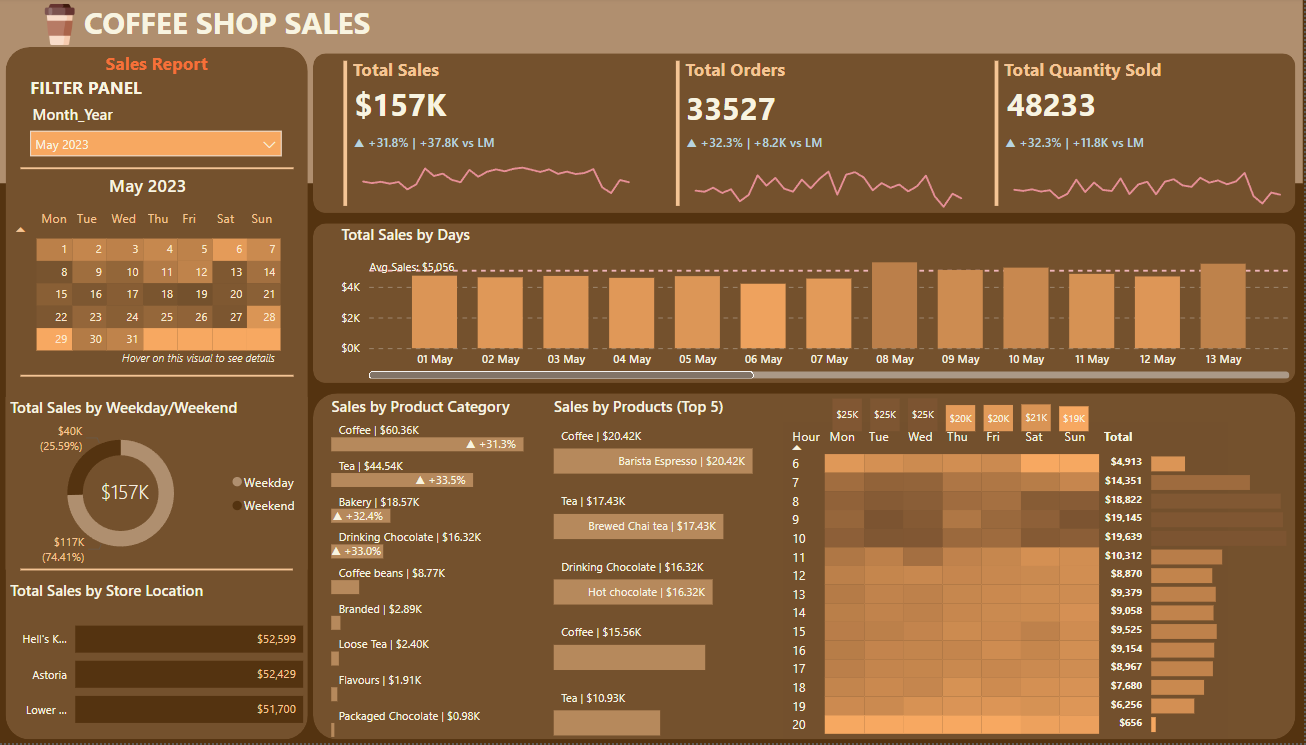

What the dashboard file says about the page in this screenshot:
{"tool":"powerbi","page":{"name":"Dashboard","canvas":[1400,800],"ordinal":0},"visuals":[{"type":"shape","box":[0,0,1399.5,199.7],"z":0},{"type":"card","fields":{"Values":["Transactions.Total Sales"]},"box":[375.6,72.4,112.6,85.8],"z":0,"group":"g1"},{"type":"card","fields":{"Values":["Transactions.Total Quantity Sold"]},"box":[1074,72.4,112.6,85.8],"z":0,"group":"g4"},{"type":"card","fields":{"Values":["Transactions.Total Orders"]},"box":[731.2,80.3,108.6,77.7],"z":0,"group":"g2"},{"type":"pivotTable","fields":{"Rows":["Calendar.Week_no"],"Columns":["Calendar.Day Name"],"Values":["Sum(Calendar.Day_no)"]},"box":[9.8,219.4,305.6,166.2],"z":0,"group":"g3"},{"type":"shape","box":[8,53.6,324.4,742.6],"z":1000},{"type":"lineChart","fields":{"Category":["Calendar.Date.Variation.Date Hierarchy.Year","Calendar.Date.Variation.Date Hierarchy.Quarter","Calendar.Date.Variation.Date Hierarchy.Month","Calendar.Date.Variation.Date Hierarchy.Day"],"Y":["Transactions.Total Sales"]},"box":[376.9,146.1,315,85.8],"z":1000,"group":"g1"},{"type":"lineChart","fields":{"Category":["Calendar.Date.Variation.Date Hierarchy.Year","Calendar.Date.Variation.Date Hierarchy.Quarter","Calendar.Date.Variation.Date Hierarchy.Month","Calendar.Date.Variation.Date Hierarchy.Day"],"Y":["Transactions.Total Orders"]},"box":[733.4,146.1,315,85.8],"z":1000,"group":"g2"},{"type":"lineChart","fields":{"Category":["Calendar.Date.Variation.Date Hierarchy.Year","Calendar.Date.Variation.Date Hierarchy.Quarter","Calendar.Date.Variation.Date Hierarchy.Month","Calendar.Date.Variation.Date Hierarchy.Day"],"Y":["Transactions.Total Quantity Sold"]},"box":[1075.3,146.1,315,85.8],"z":1000,"group":"g4"},{"type":"card","fields":{"Values":["Min(Calendar.Month_Year)"]},"box":[4.7,185,313.6,37.2],"z":1000,"group":"g3"},{"type":"textbox","box":[375.6,60.3,281.5,42.9],"z":2000,"group":"g1"},{"type":"textbox","box":[732.1,60.3,281.5,42.9],"z":2000,"group":"g2"},{"type":"textbox","box":[1074,60.3,281.5,42.9],"z":2000,"group":"g4"},{"type":"card","fields":{"Values":["Transactions.Foot Note"]},"box":[125,373.6,181,24.1],"z":2000,"group":"g3"},{"type":"donutChart","fields":{"Y":["Transactions.Total Sales"],"Category":["Calendar.Weekday/Weekend"]},"box":[8,429,324.4,185],"z":2000},{"type":"shape","box":[337.8,60.3,1053.6,171.6],"z":3000},{"type":"shape","box":[350.9,68.1,42.4,155.7],"z":3000,"group":"g1"},{"type":"shape","box":[707.4,68.1,42.4,155.7],"z":3000,"group":"g2"},{"type":"shape","box":[1049.3,68.1,42.4,155.7],"z":3000,"group":"g4"},{"type":"shape","box":[25.5,162.2,292.9,42.9],"z":3000,"group":"g5"},{"type":"shape","box":[337.8,242.6,1053.6,171.6],"z":4000},{"type":"shape","box":[337.8,424.9,1053.6,371.3],"z":5000},{"type":"card","fields":{"Values":["Transactions.Total Sales"]},"box":[95.2,497.3,81.8,68.4],"z":6000},{"type":"textbox","box":[87.7,0,401.3,56.5],"z":7000},{"type":"slicer","fields":{"Values":["Calendar.Month_Year"]},"box":[23.8,110,289.8,69.9],"z":8000},{"type":"group","id":"g1","title":"Group 1","box":[350.9,60.3,340.9,171.4],"z":9000},{"type":"group","id":"g2","title":"Group 1","box":[707.4,60.3,341,171.6],"z":10000},{"type":"group","id":"g3","title":"Group 2","box":[4.7,185,313.6,212.7],"z":10000,"group":"g5"},{"type":"group","id":"g4","title":"Group 1","box":[1049.3,60.3,340.9,171.4],"z":11000},{"type":"shape","box":[25.5,385.1,292.9,42.9],"z":11001,"group":"g5"},{"type":"shape","box":[24.1,592.5,292.2,42.9],"z":12000},{"type":"group","id":"g5","title":"Group 3","box":[4.7,162.2,313.6,265.7],"z":13000},{"type":"clusteredBarChart","fields":{"Category":["Transactions.store_location"],"Y":["Transactions.Total Sales"]},"box":[8,624.4,324.4,175.6],"z":14000},{"type":"clusteredColumnChart","fields":{"Category":["Calendar.Day Month"],"Y":["Transactions.Total Sales"]},"box":[363.3,242.6,1026.8,171.6],"z":15000},{"type":"clusteredBarChart","title":"Sales by Product Category","fields":{"Y":["Transactions.Placeholder","Transactions.Total Sales"],"Category":["Transactions.product_category"]},"box":[352.2,428,248.2,371.5],"z":16000},{"type":"clusteredBarChart","title":"Sales by Products (Top 5)","fields":{"Y":["Transactions.Placeholder","Transactions.Total Sales"],"Category":["Transactions.product_type"]},"box":[591.5,428,248.2,371.5],"z":17000},{"type":"pivotTable","fields":{"Rows":["Transactions.Hour"],"Columns":["Calendar.Day Name"],"Values":["Transactions.Total Sales"]},"box":[841.2,456.3,477.1,340.3],"z":18000},{"type":"clusteredColumnChart","fields":{"Category":["Calendar.Day Name"],"Y":["Transactions.Total Sales"]},"box":[890.1,399.5,285.5,72.4],"z":19000},{"type":"clusteredBarChart","fields":{"Y":["Transactions.Total Sales"],"Category":["Transactions.Hour"]},"box":[1232.1,480,157.5,313.6],"z":20000},{"type":"textbox","box":[29.7,78.8,185.8,37.2],"z":21000},{"type":"textbox","box":[7.4,53.5,324,37.2],"z":22000},{"type":"image","box":[23.8,3,83.2,53.5],"z":23000}]}

Visuals, with their boxes in screenshot pixels (x1, y1, x2, y2), scaled from the page's 1400x800 canvas onto the 1306x745 screenshot:
shape: pyautogui.locateOnScreen(0, 0, 1305, 186)
card - Transactions.Total Sales: pyautogui.locateOnScreen(350, 67, 455, 147)
card - Transactions.Total Quantity Sold: pyautogui.locateOnScreen(1002, 67, 1107, 147)
card - Transactions.Total Orders: pyautogui.locateOnScreen(682, 75, 783, 147)
pivotTable - Calendar.Week_no x Calendar.Day Name: pyautogui.locateOnScreen(9, 204, 294, 359)
shape: pyautogui.locateOnScreen(7, 50, 310, 741)
lineChart - Calendar.Date.Variation.Date Hierarchy.Year x Calendar.Date.Variation.Date Hierarchy.Quarter: pyautogui.locateOnScreen(352, 136, 645, 216)
lineChart - Calendar.Date.Variation.Date Hierarchy.Year x Calendar.Date.Variation.Date Hierarchy.Quarter: pyautogui.locateOnScreen(684, 136, 978, 216)
lineChart - Calendar.Date.Variation.Date Hierarchy.Year x Calendar.Date.Variation.Date Hierarchy.Quarter: pyautogui.locateOnScreen(1003, 136, 1297, 216)
card - Min(Calendar.Month_Year): pyautogui.locateOnScreen(4, 172, 297, 207)
textbox: pyautogui.locateOnScreen(350, 56, 613, 96)
textbox: pyautogui.locateOnScreen(683, 56, 946, 96)
textbox: pyautogui.locateOnScreen(1002, 56, 1264, 96)
card - Transactions.Foot Note: pyautogui.locateOnScreen(117, 348, 285, 370)
donutChart - Transactions.Total Sales x Calendar.Weekday/Weekend: pyautogui.locateOnScreen(7, 400, 310, 572)
shape: pyautogui.locateOnScreen(315, 56, 1298, 216)
shape: pyautogui.locateOnScreen(327, 63, 367, 208)
shape: pyautogui.locateOnScreen(660, 63, 699, 208)
shape: pyautogui.locateOnScreen(979, 63, 1018, 208)
shape: pyautogui.locateOnScreen(24, 151, 297, 191)
shape: pyautogui.locateOnScreen(315, 226, 1298, 386)
shape: pyautogui.locateOnScreen(315, 396, 1298, 741)
card - Transactions.Total Sales: pyautogui.locateOnScreen(89, 463, 165, 527)
textbox: pyautogui.locateOnScreen(82, 0, 456, 53)
slicer - Calendar.Month_Year: pyautogui.locateOnScreen(22, 102, 293, 168)
"Group 1" group: pyautogui.locateOnScreen(327, 56, 645, 216)
"Group 1" group: pyautogui.locateOnScreen(660, 56, 978, 216)
"Group 2" group: pyautogui.locateOnScreen(4, 172, 297, 370)
"Group 1" group: pyautogui.locateOnScreen(979, 56, 1297, 216)
shape: pyautogui.locateOnScreen(24, 359, 297, 399)
shape: pyautogui.locateOnScreen(22, 552, 295, 592)
"Group 3" group: pyautogui.locateOnScreen(4, 151, 297, 398)
clusteredBarChart - Transactions.store_location x Transactions.Total Sales: pyautogui.locateOnScreen(7, 581, 310, 744)
clusteredColumnChart - Calendar.Day Month x Transactions.Total Sales: pyautogui.locateOnScreen(339, 226, 1297, 386)
"Sales by Product Category" clusteredBarChart: pyautogui.locateOnScreen(329, 399, 560, 744)
"Sales by Products (Top 5)" clusteredBarChart: pyautogui.locateOnScreen(552, 399, 783, 744)
pivotTable - Transactions.Hour x Calendar.Day Name: pyautogui.locateOnScreen(785, 425, 1230, 742)
clusteredColumnChart - Calendar.Day Name x Transactions.Total Sales: pyautogui.locateOnScreen(830, 372, 1097, 439)
clusteredBarChart - Transactions.Total Sales x Transactions.Hour: pyautogui.locateOnScreen(1149, 447, 1296, 739)
textbox: pyautogui.locateOnScreen(28, 73, 201, 108)
textbox: pyautogui.locateOnScreen(7, 50, 309, 84)
image: pyautogui.locateOnScreen(22, 3, 100, 53)
